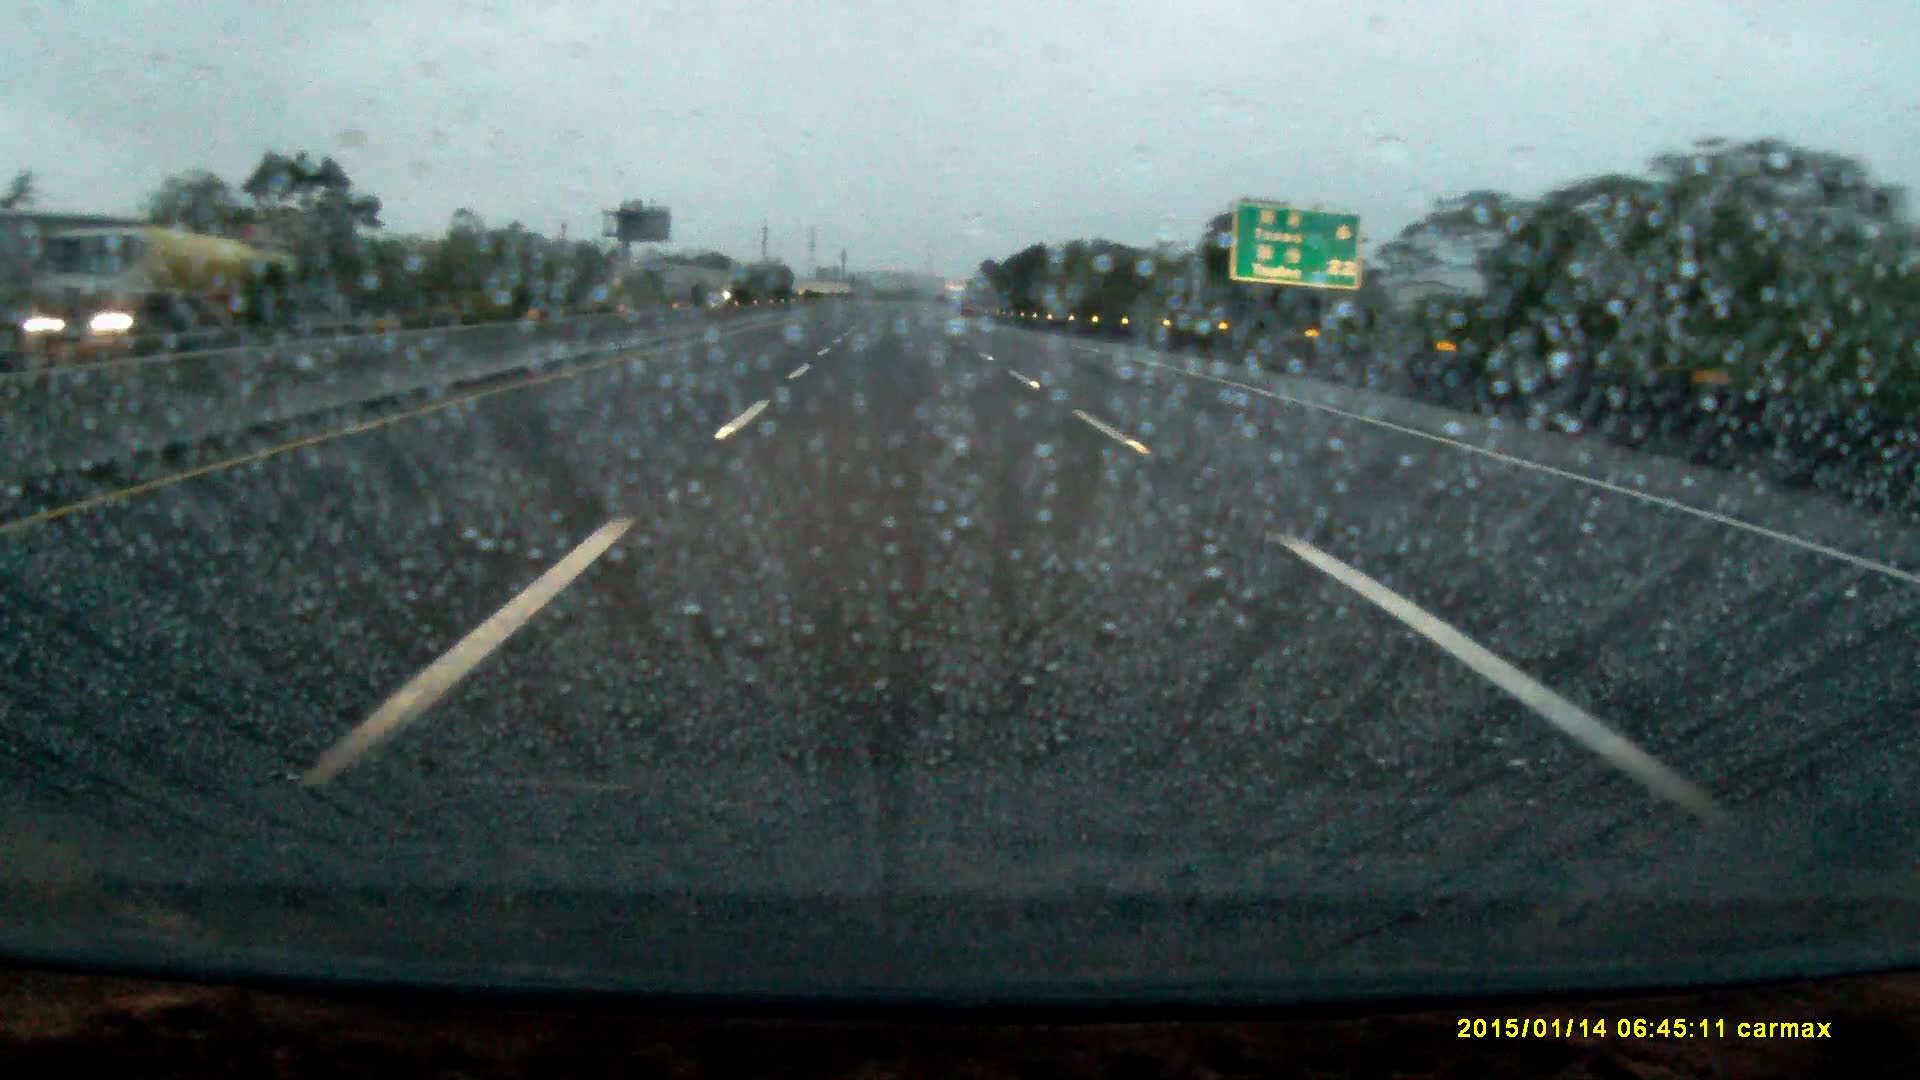vehicle: (61, 235, 281, 328), (28, 289, 164, 368)
